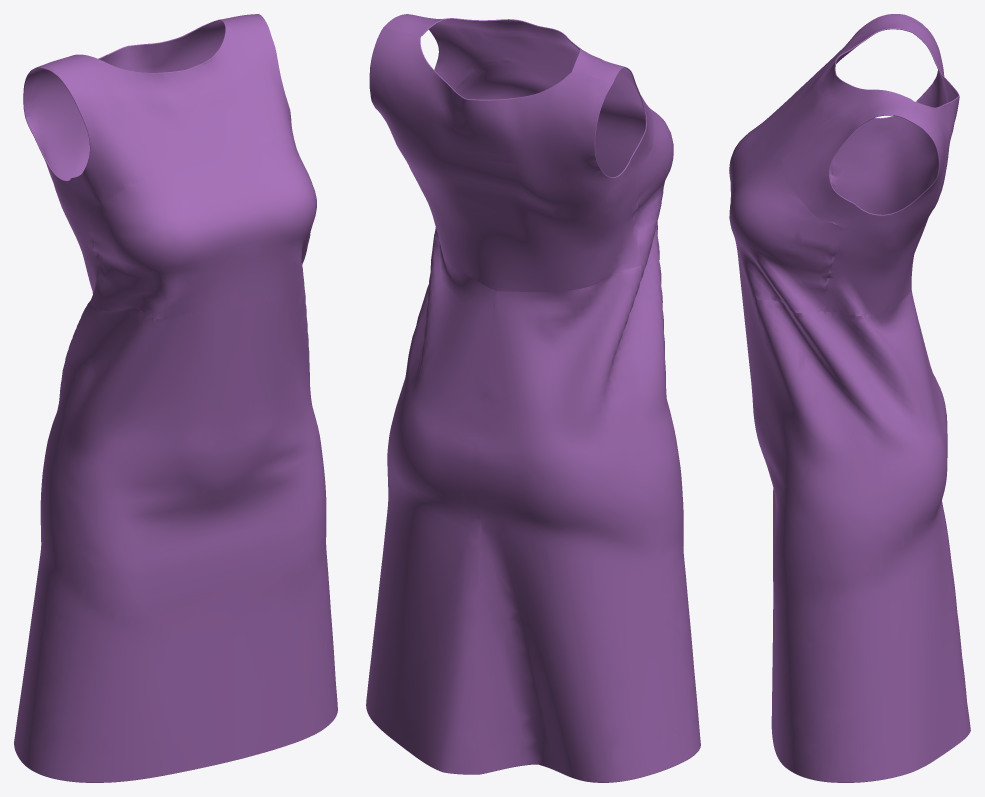
Rendered from MiddleAge.fbx.
The picture shows the model from 3 angles, left to right: view 1: azimuth 30°, elevation 25°; view 2: azimuth 150°, elevation 25°; view 3: azimuth 270°, elevation 25°; orthographic projection. The views are drawn at different scales.
Visible parts, largest first — view 1: Pattern2D_5105901, Pattern2D_1555215, Pattern2D_1553374; view 2: Pattern2D_5105901, Pattern2D_1553374, Pattern2D_1555215; view 3: Pattern2D_5105901, Pattern2D_1555215, Pattern2D_1553374.
Boxes of the visible parts, <box> form: Pattern2D_5105901: <box>14,281,337,782</box>; Pattern2D_1555215: <box>36,14,316,319</box>; Pattern2D_1553374: <box>23,20,225,303</box>; Pattern2D_5105901: <box>366,222,700,782</box>; Pattern2D_1553374: <box>369,28,641,291</box>; Pattern2D_1555215: <box>383,14,673,264</box>; Pattern2D_5105901: <box>740,276,970,782</box>; Pattern2D_1555215: <box>729,14,913,313</box>; Pattern2D_1553374: <box>826,17,959,316</box>.
Size of the model in its own units: 42.31 by 92.06 by 30.36.
